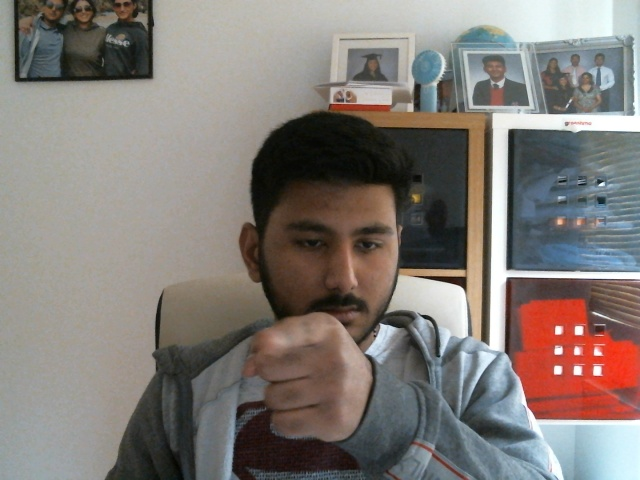you: (242, 311, 350, 437)
